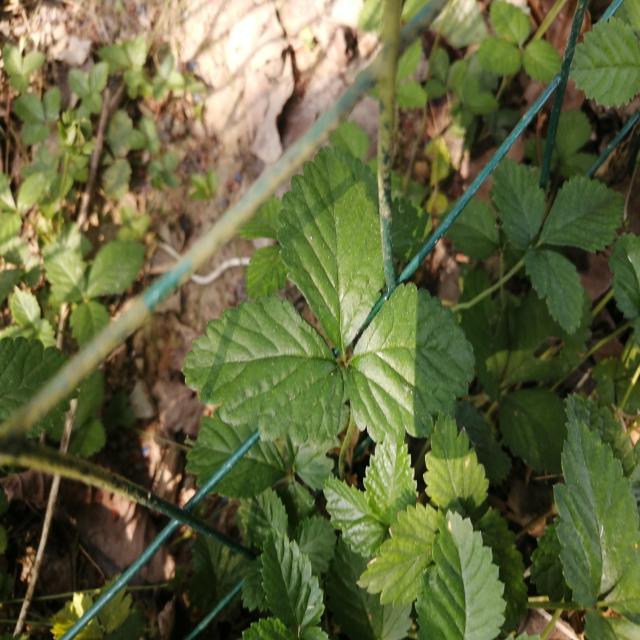Mock_strawberry: (208, 152, 466, 433)
